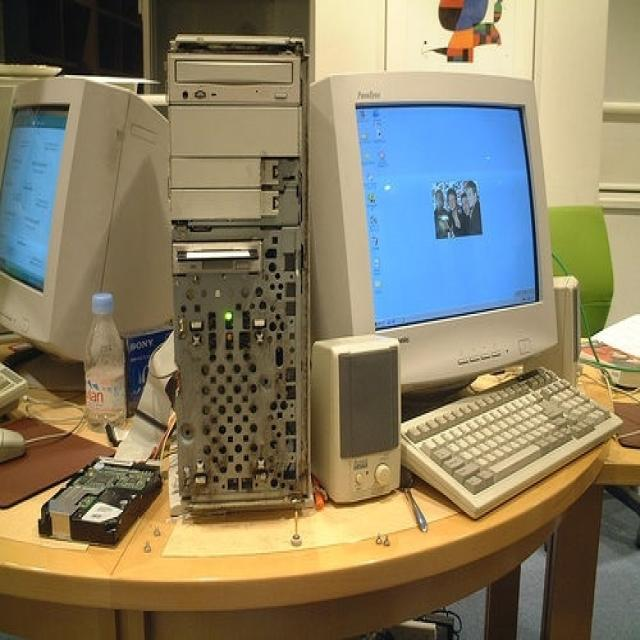E-waste: (0, 25, 625, 551)
